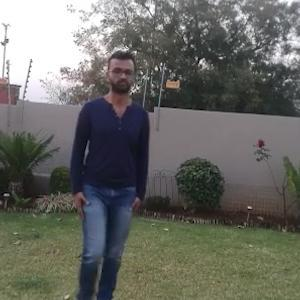follow: (73, 52, 155, 299)
